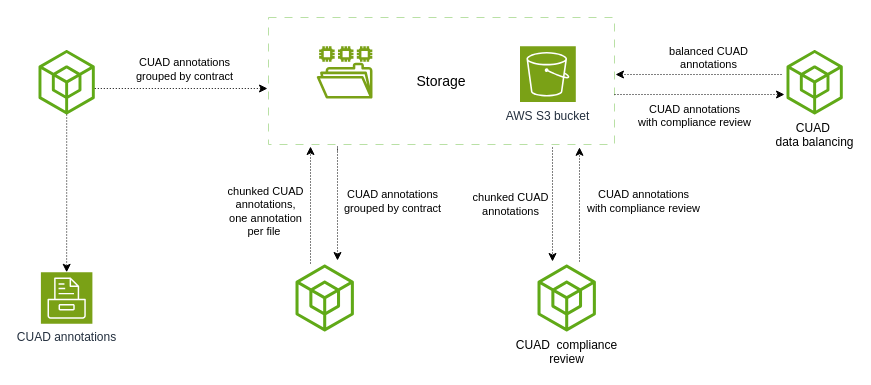
Image size: 871x385. Some labels were removed from this diagram. Each missing label, with the centre of its shape:
"CUAD Chunking" belongs at (66,81).
"CUAD Transformation" belongs at (324,298).
"File system" belongs at (344,72).
